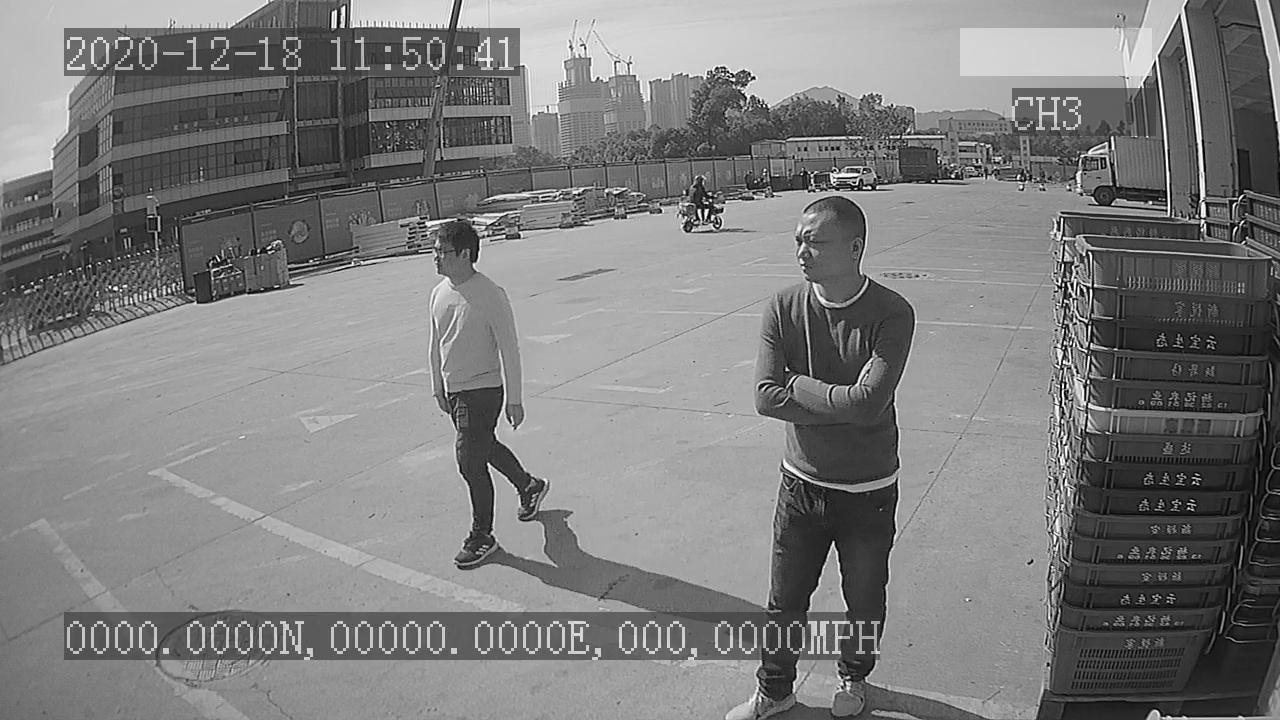person: (417, 215, 556, 579)
